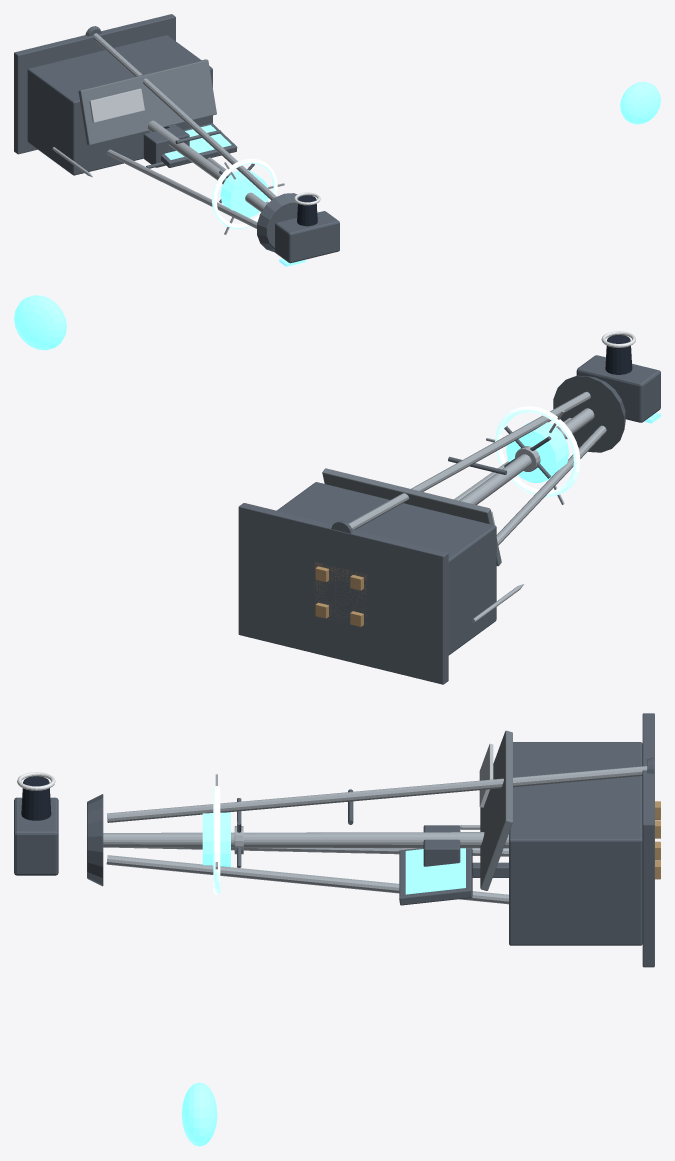
The model's file is infra-props-a.glb.
3 views of the same model, one above another, from view 1: azimuth 30°, elevation 25°; view 2: azimuth 150°, elevation 25°; view 3: azimuth 270°, elevation 25° (orthographic). The views are drawn at different scales.
Parts seen in each view (by area): view 1: CtrlCabinet, CtrlPanel, CtrlPlinth, CameraHead, Leg2, LocusDome, Platform, LocusEmitter, CtrlKeyboard, Mast, Leg0, ServiceBox (+4 smaller); view 2: CtrlPlinth, CtrlCabinet, Platform, CtrlPanel, CameraHead, Leg2, LocusDome, LocusEmitter, LocusRing, Mast, Leg0, LensBarrel (+1 smaller); view 3: CtrlCabinet, Leg2, Mast, Leg1, CtrlPanel, CtrlPlinth, CameraHead, CtrlMonitorScreen, LocusDome, Platform, CtrlMonitorBezel, ServiceBox (+4 smaller).
Boxes of the visible parts, x1,y1,x2,y2 form: CtrlCabinet: (27, 35, 212, 175); CtrlPanel: (78, 59, 216, 145); CtrlPlinth: (14, 14, 175, 154); CameraHead: (275, 211, 339, 263); Leg2: (93, 33, 276, 200); LocusDome: (620, 82, 660, 124); Platform: (257, 193, 301, 252); LocusEmitter: (220, 170, 268, 217); CtrlKeyboard: (89, 88, 144, 122); Mast: (148, 120, 266, 211); Leg0: (107, 149, 257, 228); ServiceBox: (143, 126, 189, 167); CtrlPlinth: (238, 503, 448, 684); CtrlCabinet: (277, 482, 496, 655); Platform: (553, 375, 625, 452); CtrlPanel: (322, 468, 501, 566); CameraHead: (576, 355, 660, 422); Leg2: (348, 392, 590, 529); LocusDome: (14, 295, 66, 350); LocusEmitter: (506, 421, 569, 482); LocusRing: (495, 406, 580, 497); Mast: (459, 408, 594, 504); Leg0: (496, 425, 606, 545); LensBarrel: (605, 335, 632, 374); CtrlCabinet: (509, 742, 642, 945); Leg2: (107, 766, 647, 822); Mast: (103, 832, 508, 848); Leg1: (106, 855, 508, 904); CtrlPanel: (480, 730, 512, 890); CtrlPlinth: (642, 713, 654, 967); CameraHead: (14, 797, 58, 875); CtrlMonitorScreen: (405, 848, 465, 894); LocusDome: (181, 1082, 217, 1146); Platform: (87, 794, 103, 886); CtrlMonitorBezel: (399, 848, 472, 905); ServiceBox: (423, 825, 460, 866).
Bounding box in the file's own units: 4.01 × 0.8342 × 3.19.
